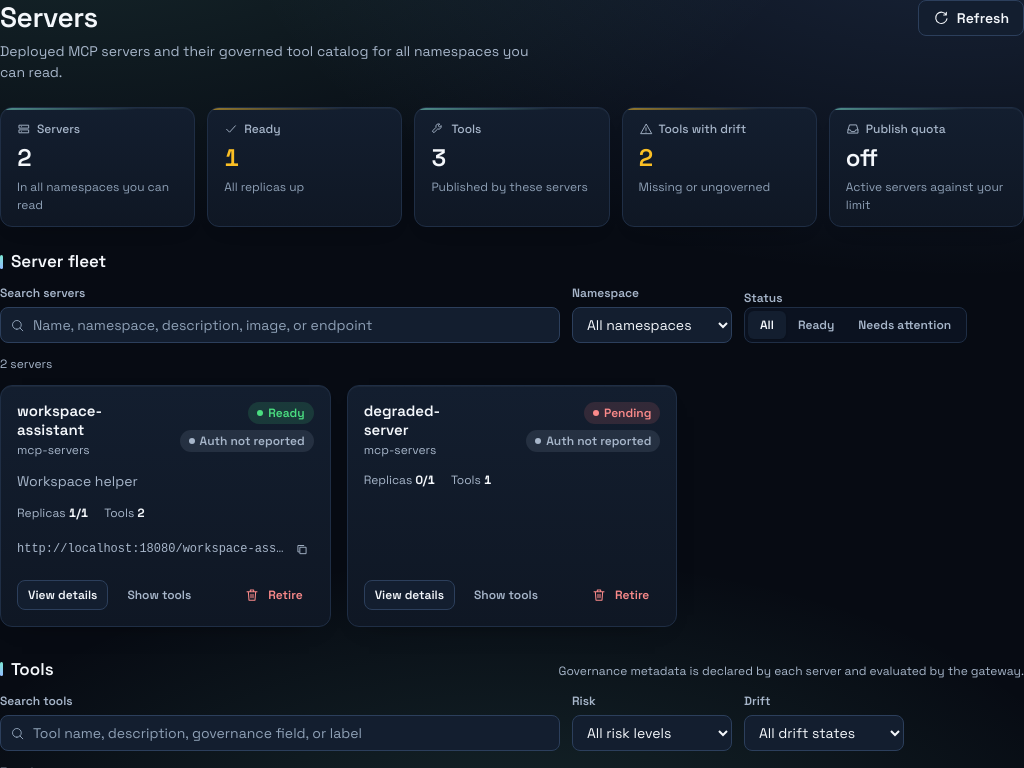
Test: ServersWorkspace › filters tools by risk level
Expected: the list with test id "server-list" is shown, 0,385 -> 677,627
Step 1. Select "High risk" in the dropdown with test id "tool-risk-filter" → (652, 733), box 572,715 -> 732,751
(page scrolled)
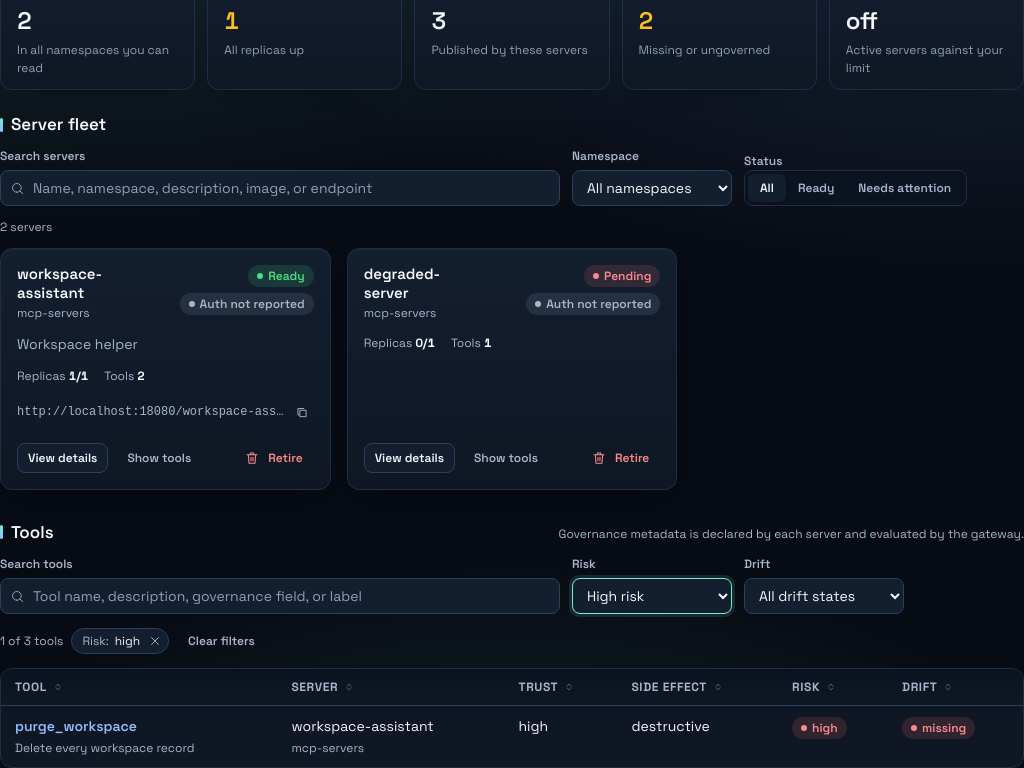
Expected: the table with test id "tool-table" shows "purge_workspace", 15,716 -> 137,737
Now the number of rows with test id "tool-row" is 1, box 1,706 -> 1023,767
